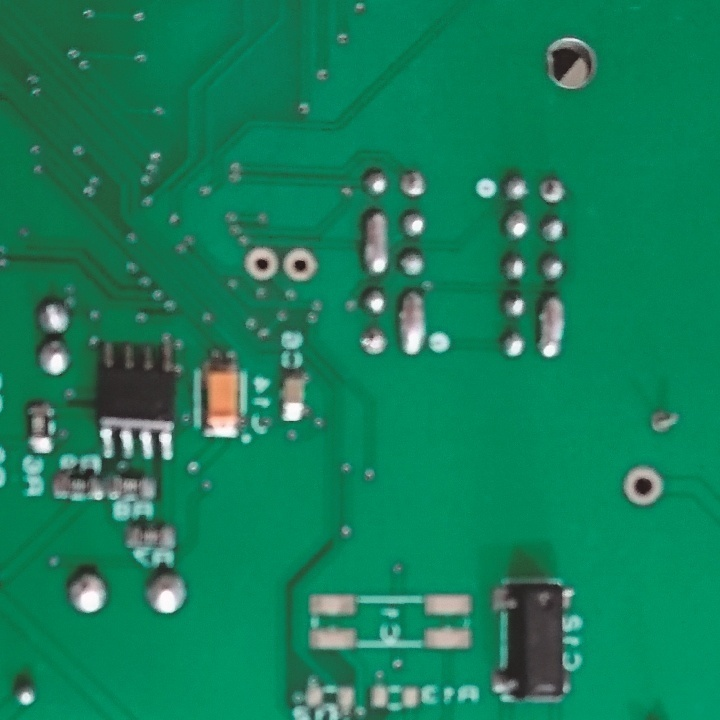F: (619, 461, 667, 509), (244, 243, 280, 283), (281, 248, 320, 280), (358, 323, 390, 359), (648, 407, 683, 438), (537, 174, 567, 207), (398, 169, 427, 198)
P: (397, 285, 427, 360), (539, 294, 567, 362), (363, 210, 387, 275)
